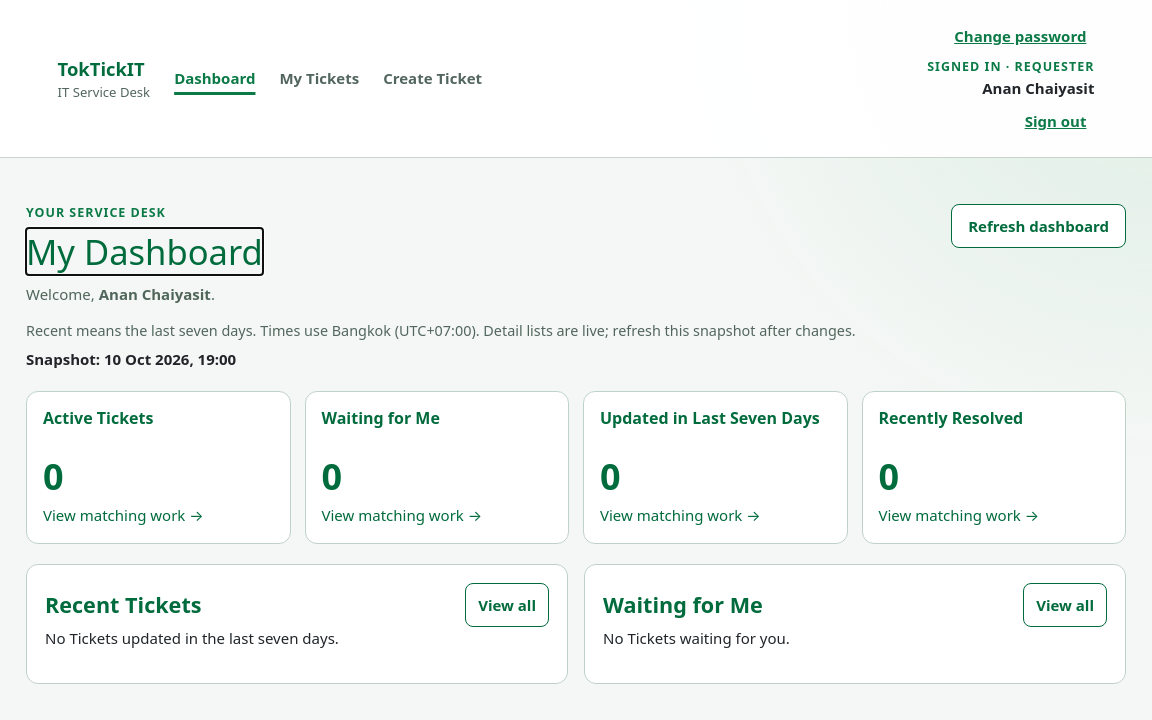
Test: Lab 3 authenticated shell › handles an already revoked session during sign-out
Click the button "Sign out" at (1056, 121), box x1=1017 y1=99 x2=1094 y2=143
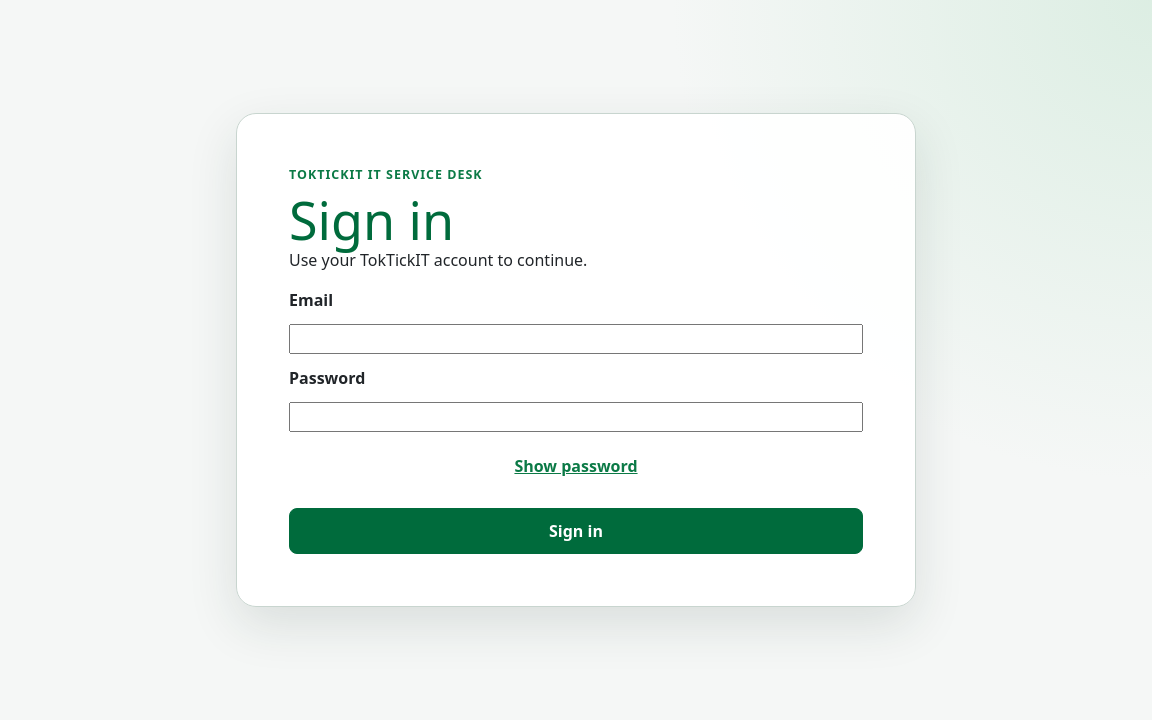
Expected: the heading "Sign in" is shown, x1=289 y1=184 x2=454 y2=255
